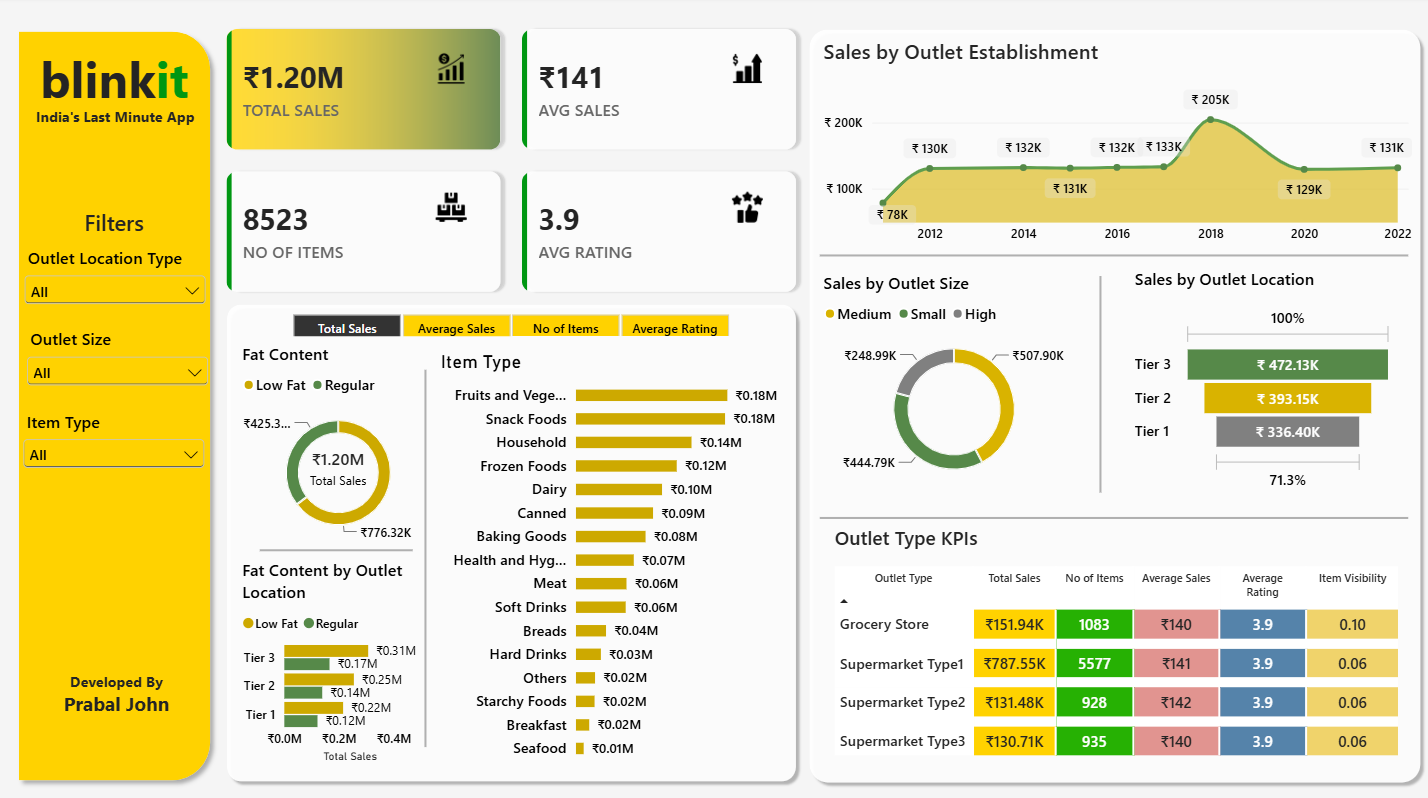

The page's visual inventory and layout, read from the dashboard file:
{"tool":"powerbi","page":{"name":"Page 1","canvas":[1400,800],"ordinal":0},"visuals":[{"type":"shape","box":[13.2,25.1,205,750],"z":0},{"type":"cardVisual","fields":{"Data":["BlinkIT Grocery Data.Total Sales","BlinkIT Grocery Data.Average Sales","BlinkIT Grocery Data.No of Items","BlinkIT Grocery Data.Average Rating"]},"box":[218.3,25.1,570,270],"z":0,"group":"g1"},{"type":"textbox","box":[31.7,47.6,168,70.1],"z":1000},{"type":"image","box":[410,47.6,68.8,46.3],"z":1000,"group":"g1"},{"type":"image","box":[699.8,47.6,68.8,46.3],"z":2000,"group":"g1"},{"type":"textbox","box":[38.4,107.1,157.4,19.8],"z":2000},{"type":"group","id":"g1","title":"Group 1","box":[218.3,25.1,570,270],"z":3000},{"type":"image","box":[410.1,182.5,68.8,46.3],"z":3000,"group":"g1"},{"type":"image","box":[699.8,182.5,68.8,46.3],"z":4000,"group":"g1"},{"type":"shape","box":[218.3,295,570.1,480.2],"z":4000},{"type":"donutChart","title":"Fat Content","fields":{"Category":["BlinkIT Grocery Data.Item Fat Content"],"Y":["BlinkIT Grocery Data.Total Sales"]},"box":[224.9,324.1,219.6,230.2],"z":5000},{"type":"slicer","fields":{"Values":["Parameter.Parameter"]},"box":[270,309,465,23],"z":6000},{"type":"cardVisual","fields":{"Data":["BlinkIT Grocery Data.Total Sales"]},"box":[280.4,424.6,107.1,74.1],"z":7000},{"type":"clusteredBarChart","title":"Fat Content by Outlet Location","fields":{"Category":["BlinkIT Grocery Data.Outlet Location Type"],"Series":["BlinkIT Grocery Data.Item Fat Content"],"Y":["BlinkIT Grocery Data.Total Sales"]},"box":[224.9,535.7,220,230],"z":8000},{"type":"clusteredBarChart","title":"Item Type","fields":{"Category":["BlinkIT Grocery Data.Item Type"],"Y":["BlinkIT Grocery Data.Total Sales"]},"box":[429.9,332,338.6,433.9],"z":9000},{"type":"shape","box":[788.4,25.1,611.1,750],"z":10000},{"type":"lineChart","title":"Sales by Outlet Establishment","fields":{"Category":["BlinkIT Grocery Data.Outlet Establishment Year"],"Y":["Sum(BlinkIT Grocery Data.Sales)"]},"box":[792.3,25.1,607.1,235.5],"z":11000},{"type":"shape","box":[257.9,535.7,149.5,13.2],"z":12000},{"type":"shape","box":[394.2,365.1,50.3,369],"z":13000},{"type":"shape","box":[805.6,228.8,575.4,50.3],"z":14000},{"type":"donutChart","title":"Sales by Outlet Size","fields":{"Category":["BlinkIT Grocery Data.Outlet Size"],"Y":["BlinkIT Grocery Data.Total Sales"]},"box":[792.3,254,287,244.7],"z":15000},{"type":"shape","box":[1054.2,273.8,50.3,211.6],"z":16000},{"type":"funnel","title":"Sales by Outlet Location","fields":{"Category":["BlinkIT Grocery Data.Outlet Location Type"],"Y":["Sum(BlinkIT Grocery Data.Sales)"]},"box":[1096.6,250,284.4,248.7],"z":17000},{"type":"shape","box":[805.6,485.5,575.4,50.3],"z":18000},{"type":"pivotTable","title":"Outlet Type KPIs","fields":{"Rows":["BlinkIT Grocery Data.Outlet Type"],"Values":["BlinkIT Grocery Data.Total Sales","BlinkIT Grocery Data.No of Items","BlinkIT Grocery Data.Average Sales","BlinkIT Grocery Data.Average Rating","Avg(BlinkIT Grocery Data.Item Visibility)"]},"box":[804.2,502,584.7,267.2],"z":19000},{"type":"slicer","fields":{"Values":["BlinkIT Grocery Data.Outlet Location Type"]},"box":[23.8,244.7,186.5,68.8],"z":19001},{"type":"slicer","fields":{"Values":["BlinkIT Grocery Data.Outlet Size"]},"box":[25.1,324.1,186.5,68.8],"z":19002},{"type":"slicer","fields":{"Values":["BlinkIT Grocery Data.Item Type"]},"box":[22.5,404.8,186.5,68.8],"z":19003},{"type":"textbox","box":[37,206.4,157.4,38.4],"z":19004},{"type":"textbox","box":[39.7,660.1,157.4,19.8],"z":19005},{"type":"textbox","box":[39.7,679.9,157.4,26.5],"z":19006}]}

Visuals, with their boxes in screenshot pixels (x1, y1, x2, y2), scaled from the page's 1400x800 canvas onto the 1428x798 screenshot:
shape: 13,25,223,773
cardVisual - BlinkIT Grocery Data.Total Sales x BlinkIT Grocery Data.Average Sales: 223,25,804,294
textbox: 32,47,204,117
image: 418,47,488,94
image: 714,47,784,94
textbox: 39,107,200,127
"Group 1" group: 223,25,804,294
image: 418,182,488,228
image: 714,182,784,228
shape: 223,294,804,773
"Fat Content" donutChart: 229,323,453,553
slicer - Parameter.Parameter: 275,308,750,331
cardVisual - BlinkIT Grocery Data.Total Sales: 286,424,395,497
"Fat Content by Outlet Location" clusteredBarChart: 229,534,454,764
"Item Type" clusteredBarChart: 438,331,784,764
shape: 804,25,1427,773
"Sales by Outlet Establishment" lineChart: 808,25,1427,260
shape: 263,534,416,548
shape: 402,364,453,732
shape: 822,228,1409,278
"Sales by Outlet Size" donutChart: 808,253,1101,497
shape: 1075,273,1127,484
"Sales by Outlet Location" funnel: 1119,249,1409,497
shape: 822,484,1409,534
"Outlet Type KPIs" pivotTable: 820,501,1417,767
slicer - BlinkIT Grocery Data.Outlet Location Type: 24,244,215,313
slicer - BlinkIT Grocery Data.Outlet Size: 26,323,216,392
slicer - BlinkIT Grocery Data.Item Type: 23,404,213,472
textbox: 38,206,198,244
textbox: 40,658,201,678
textbox: 40,678,201,705
